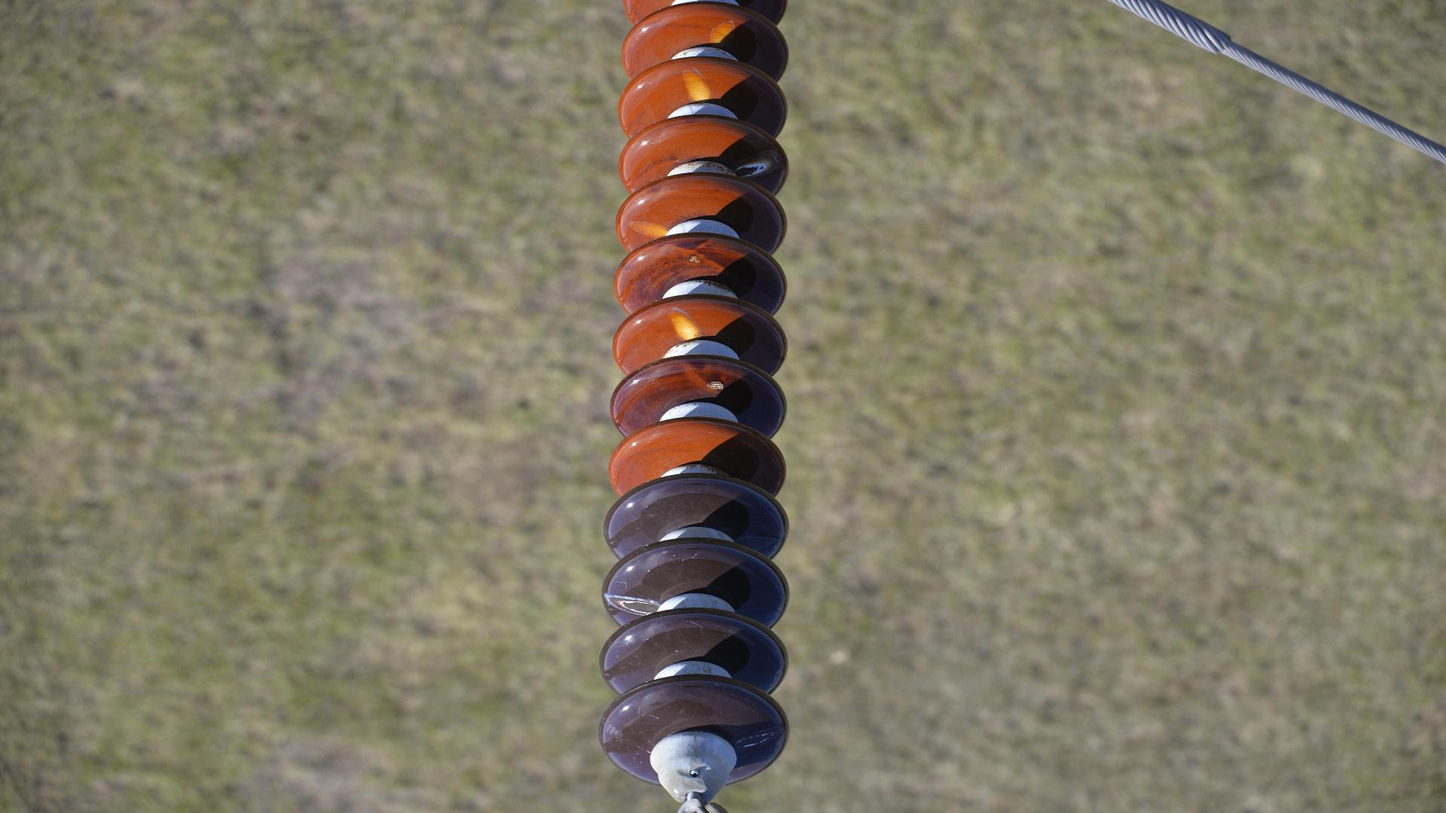insulator: (591, 1, 796, 792)
insulator_flashover: (604, 590, 660, 617), (666, 306, 703, 343), (679, 64, 712, 105), (625, 218, 669, 241), (733, 157, 773, 181), (707, 17, 737, 49)
